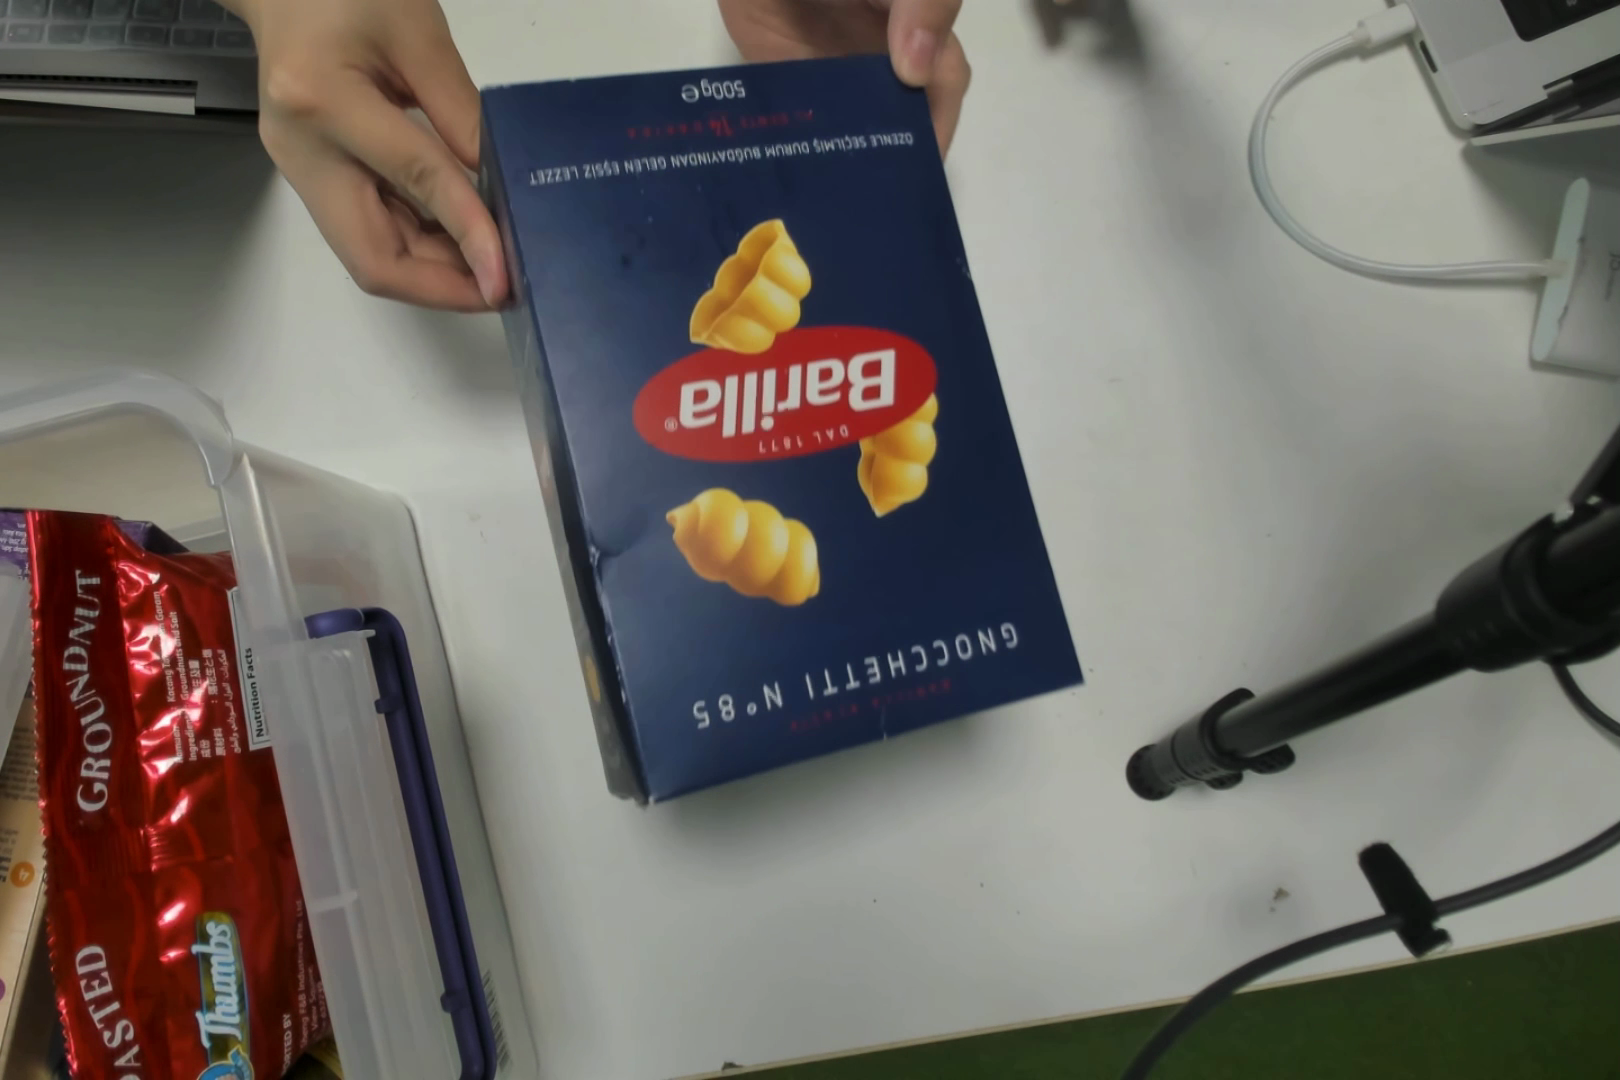Pasta_500-599g_NonHalal_NonHealthy: (552, 92, 1019, 756)
